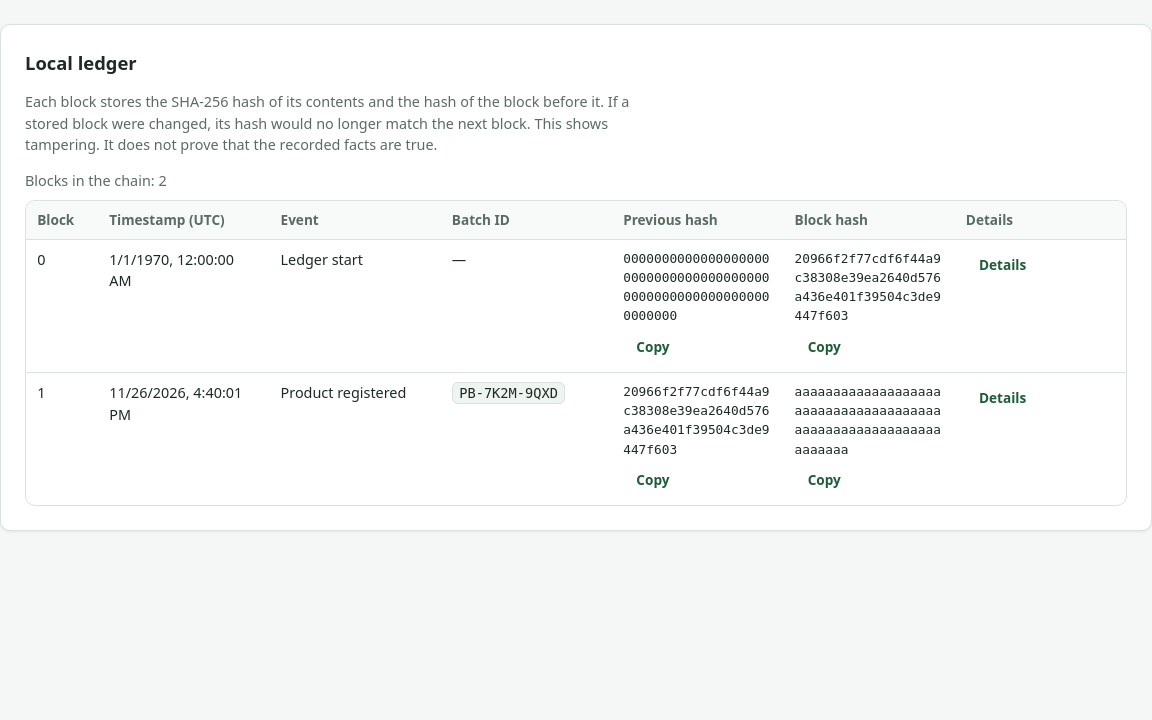
LedgerView hashes and count › reports when the hash cannot be copied
Step 1. Click the button with aria-label "Copy previous hash of block 1" → (653, 480), box [623,464,683,497]
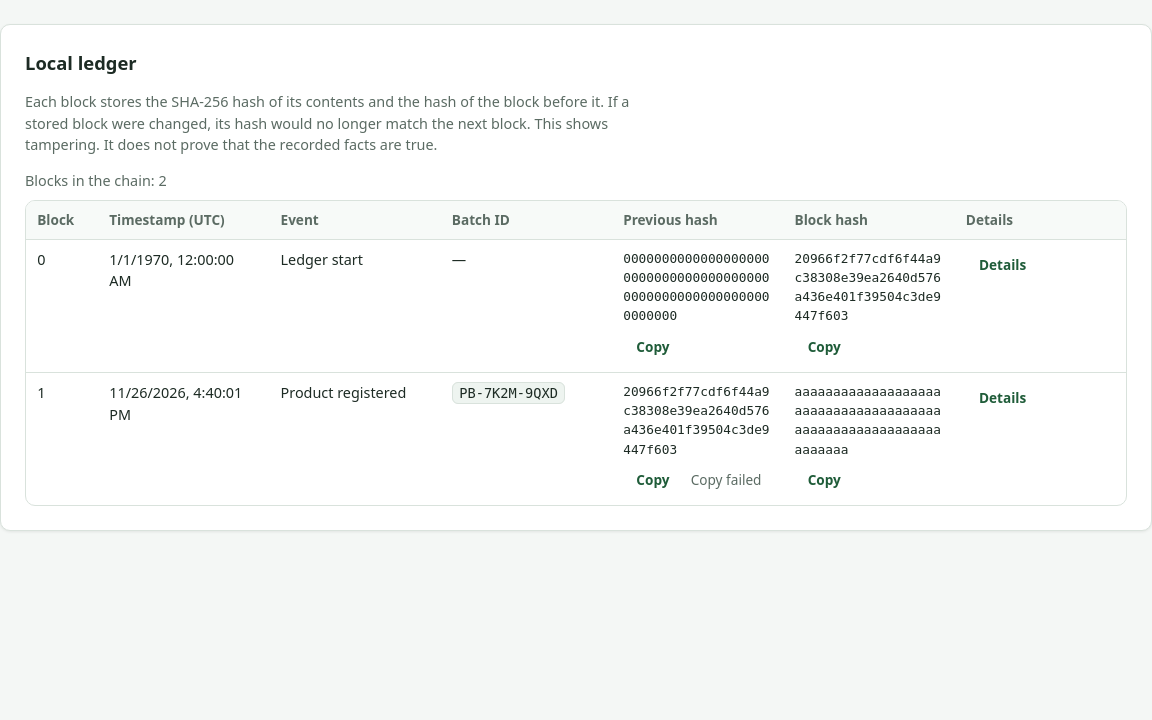
Expected: the text "Copy failed" is shown, [691,470,761,491]
